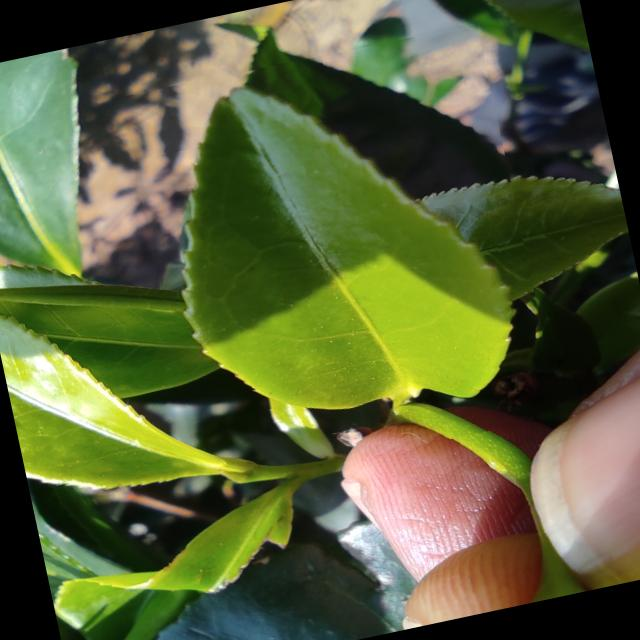Category C 4-7 days: (119, 20, 560, 490)
